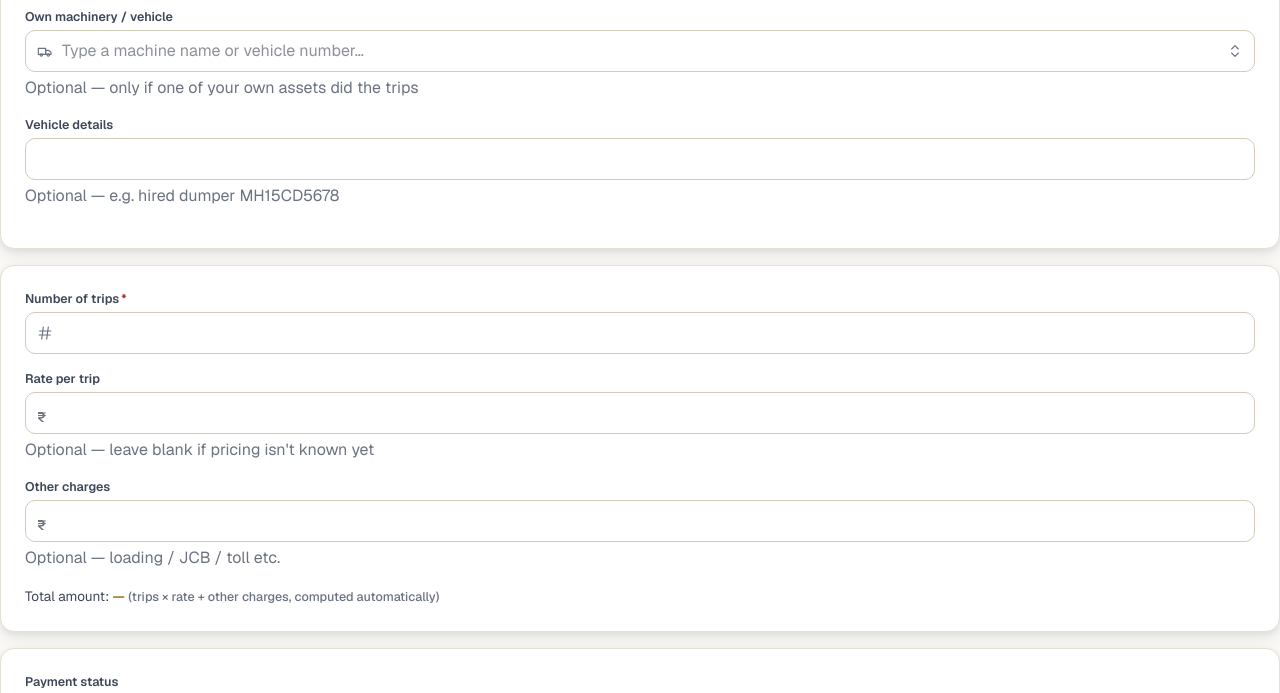
Test: WasteDisposalForm — advance to the hired Vendor › auto-fills the advance amount from trips × rate, and shows the total in words
The width and height of the screenshot is (1280, 693).
(page scrolled)
In the number field labelled "Number of trips": (640, 333) [25,312,1255,354], type "4"
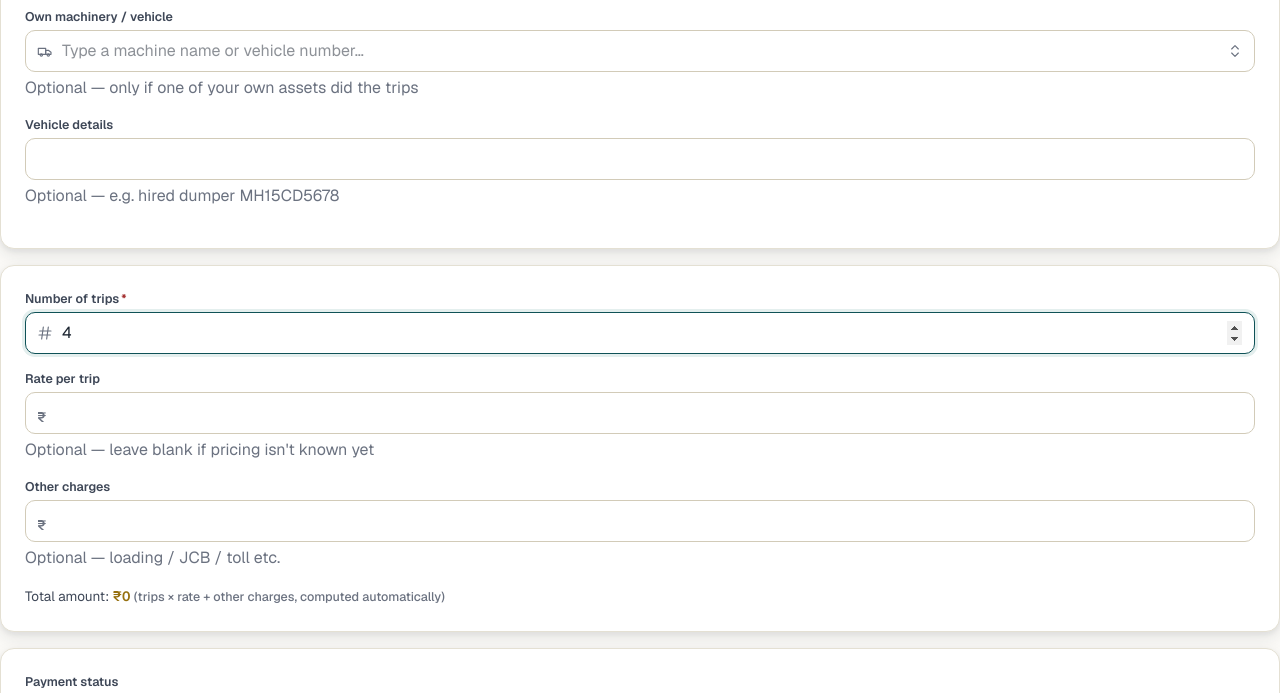
In the number field labelled "Rate per trip": (640, 413) [25,392,1255,434], type "500"
(page scrolled)
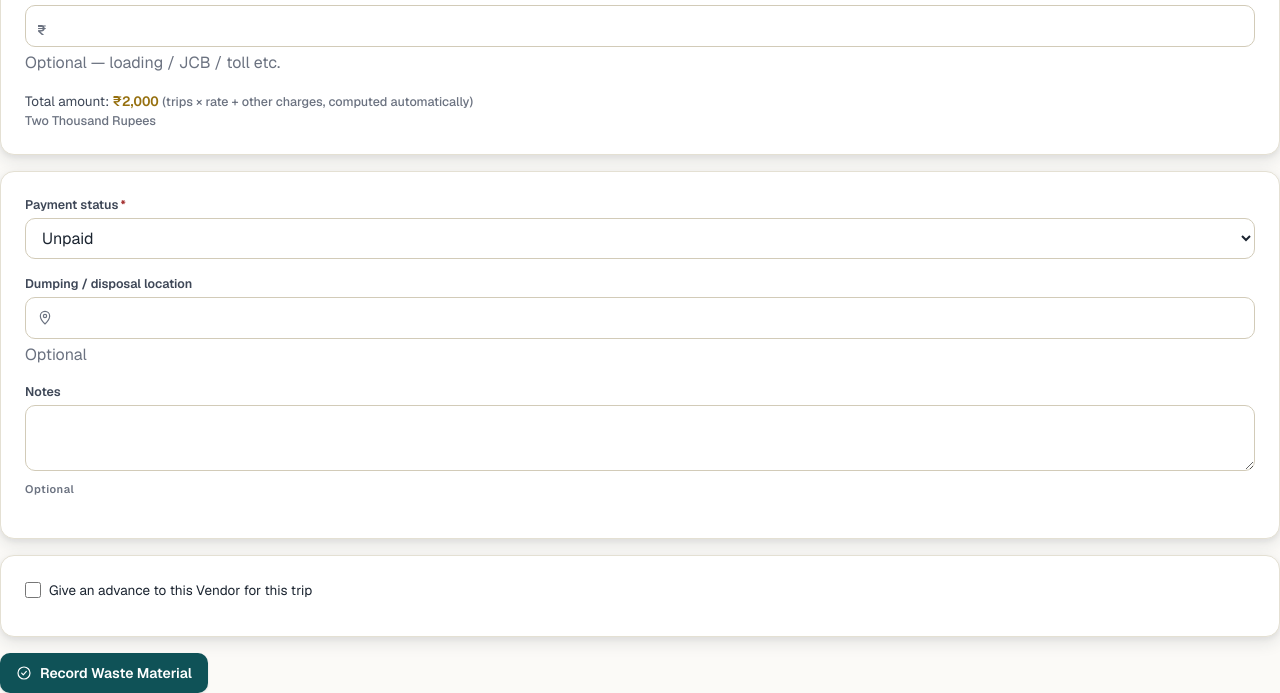
Now the text "Two Thousand Rupees" is shown, box [25,112,156,129]
Click the text "Give an advance to this Vendor for this trip": (169, 590) [25,580,312,598]
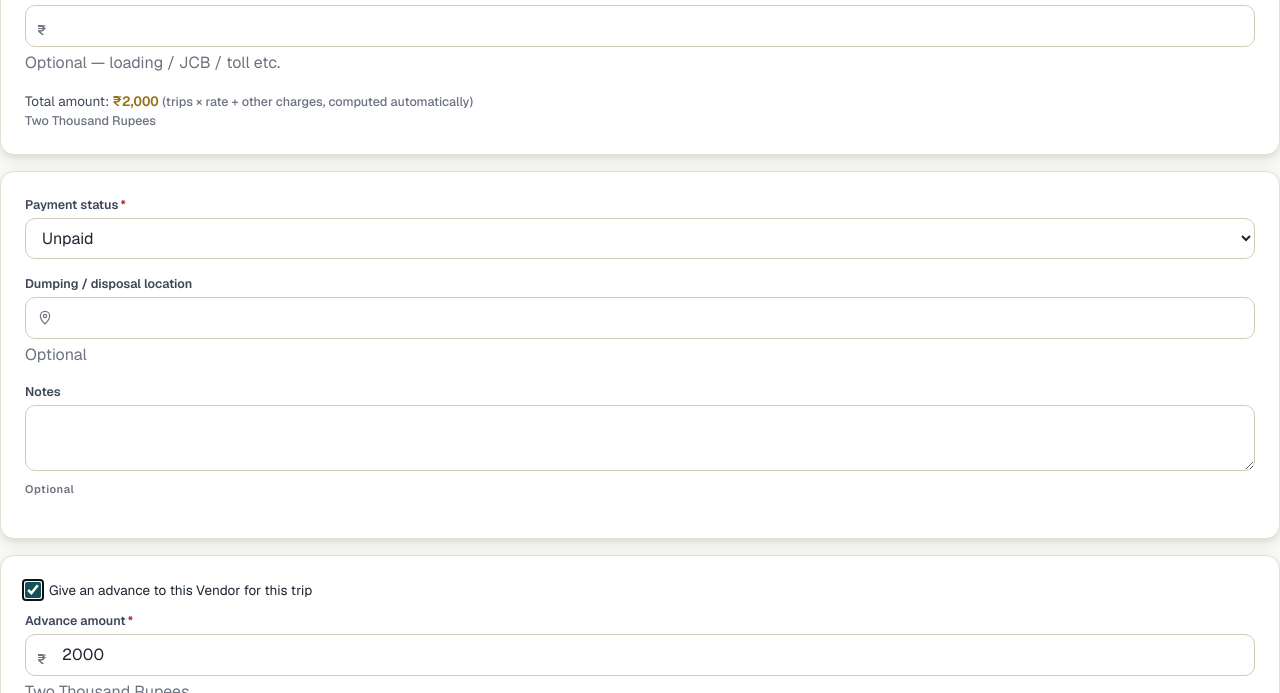
Now the number field labelled "Advance amount" holds "2000", box [25,634,1255,676]
